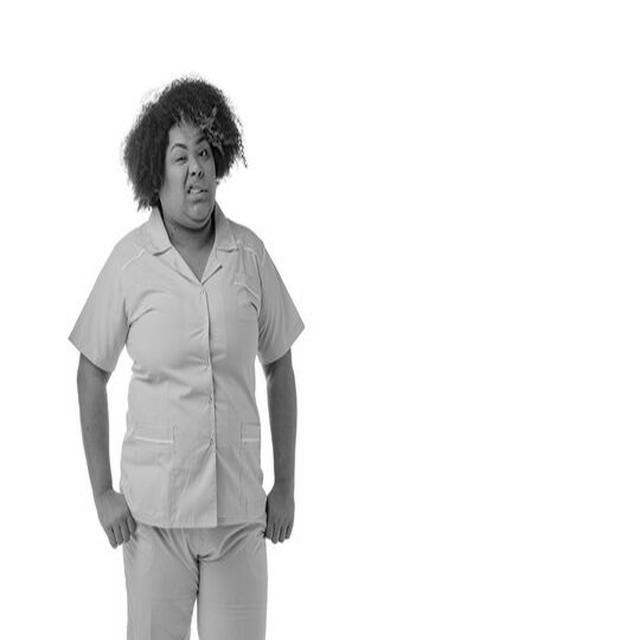Disgust: (162, 118, 218, 231)
